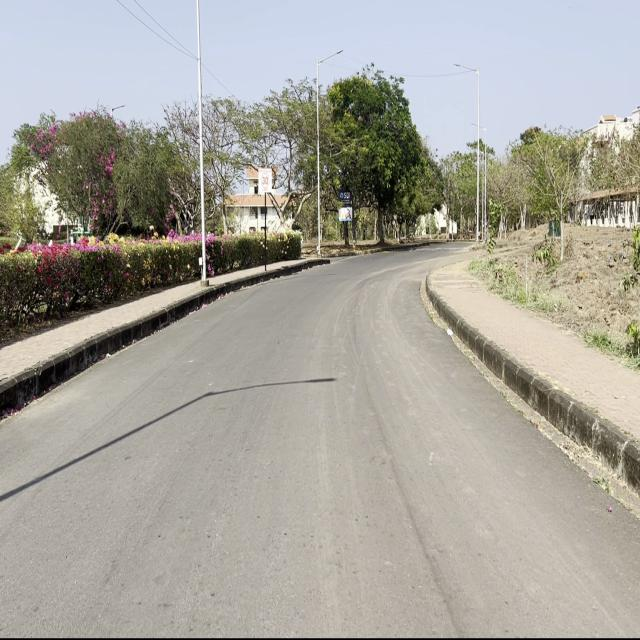Road: (0, 252, 640, 640)
